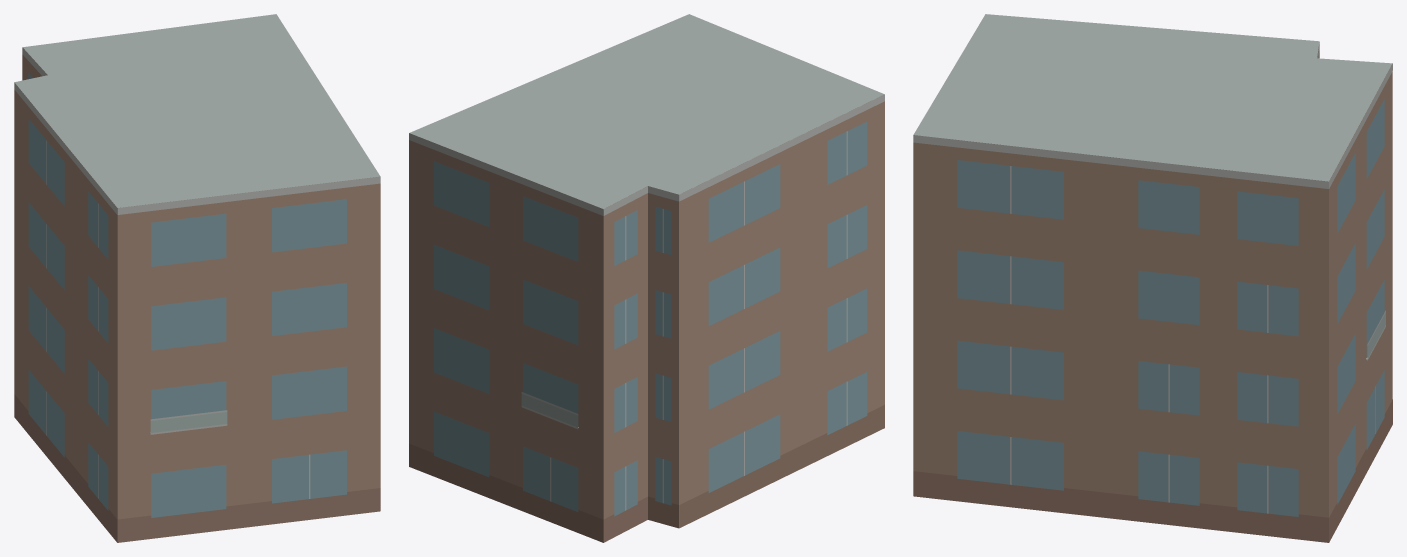
File: survey-upis-32856093.glb
3 renders of one model, left to right at view 1: azimuth 30°, elevation 25°; view 2: azimuth 150°, elevation 25°; view 3: azimuth 270°, elevation 25°, orthographic. The views are drawn at different scales.
Visible parts, largest first — view 1: survey-upis-32856093.tmp; view 2: survey-upis-32856093.tmp; view 3: survey-upis-32856093.tmp.
Boxes of the visible parts, x1,y1,x2,y2 form: survey-upis-32856093.tmp: [14, 14, 380, 542]; survey-upis-32856093.tmp: [409, 14, 884, 542]; survey-upis-32856093.tmp: [913, 14, 1392, 542].
Size of the model in its own units: 11.64 by 11.7 by 14.08.
